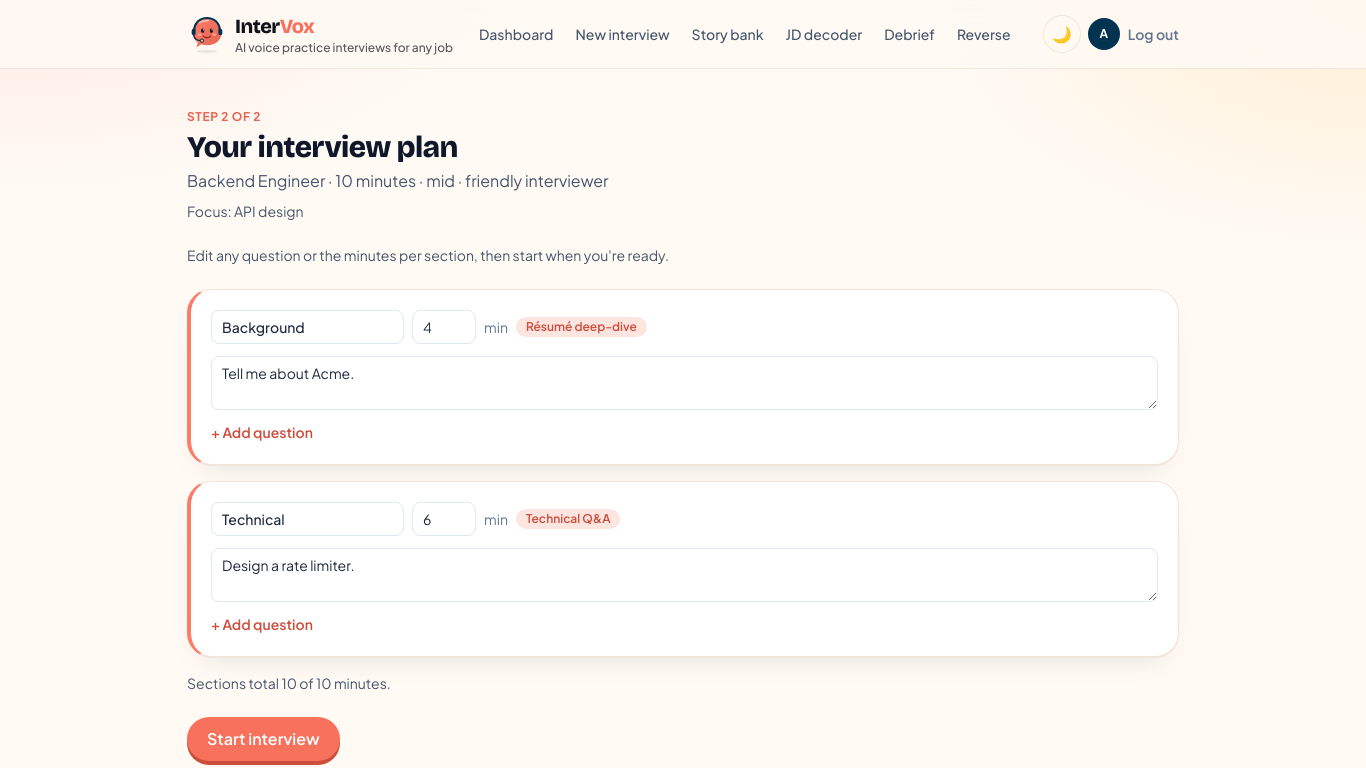
Test: interview › speaks the first question when the interview starts
Click the button "Start interview": (263, 739) [187, 717, 340, 761]
(page scrolled)
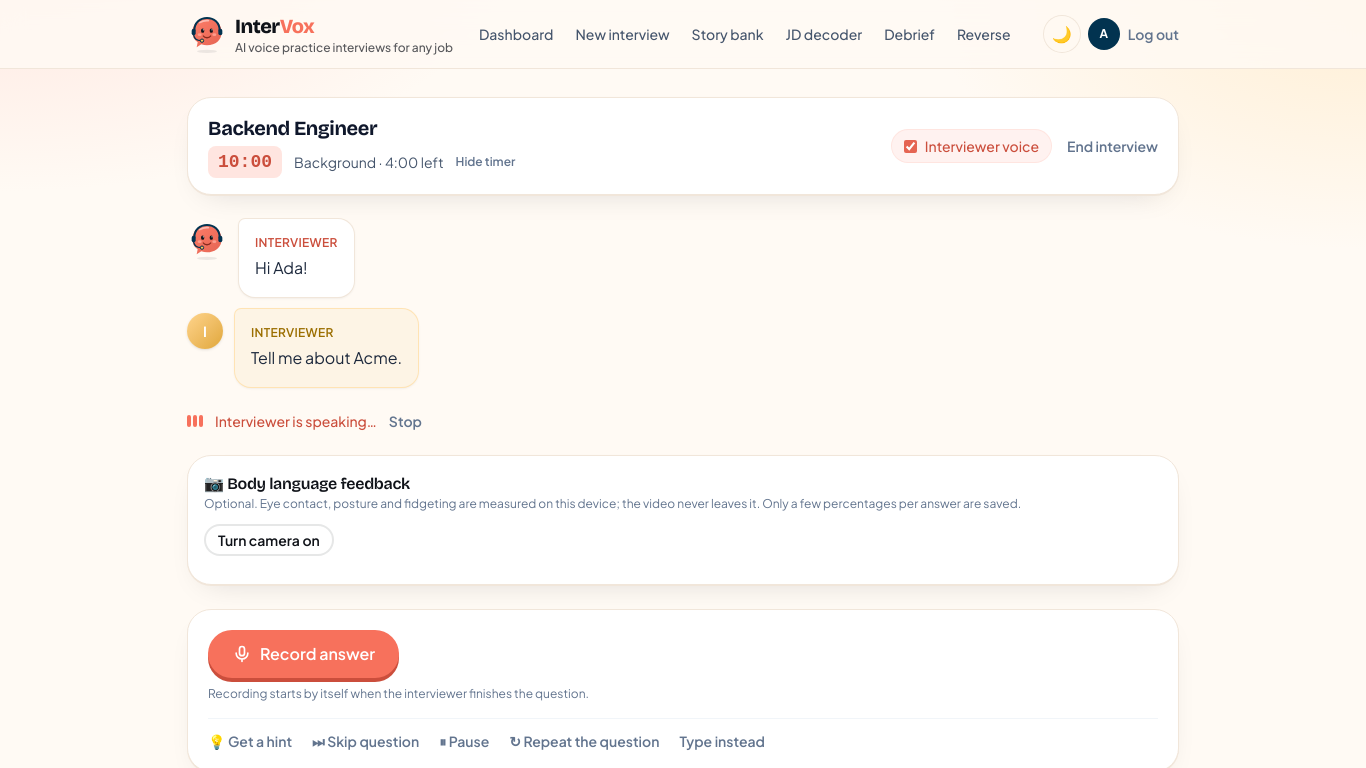
Result: the text "Tell me about Acme." is shown at [251, 345, 402, 371]
